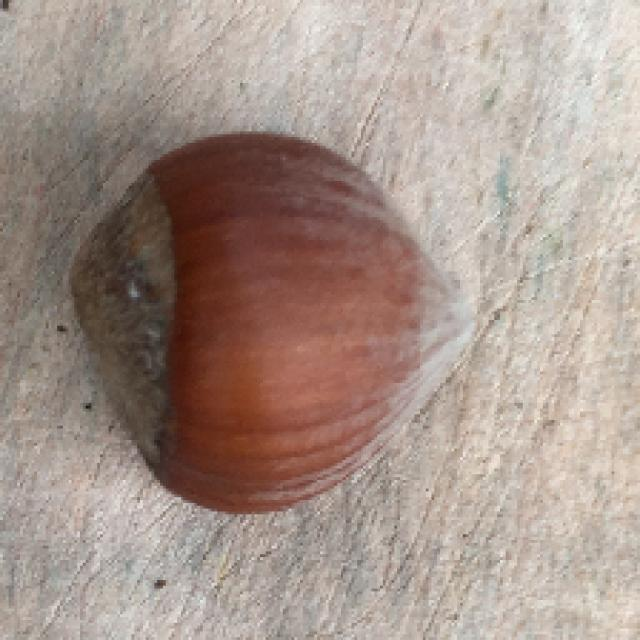qualityHazelnut: (59, 130, 473, 522)
